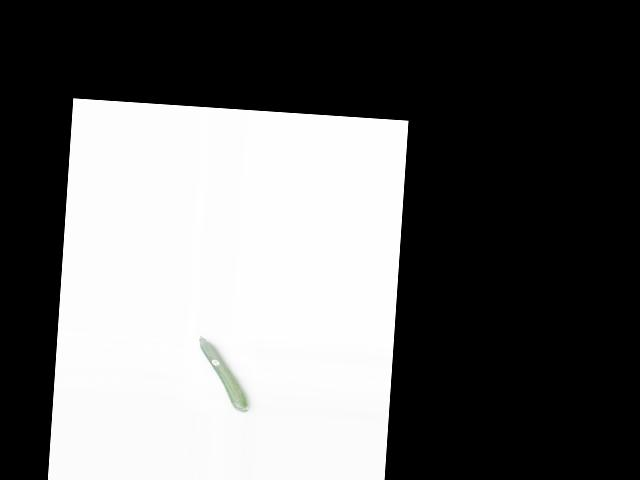cucumber: (194, 335, 253, 412)
